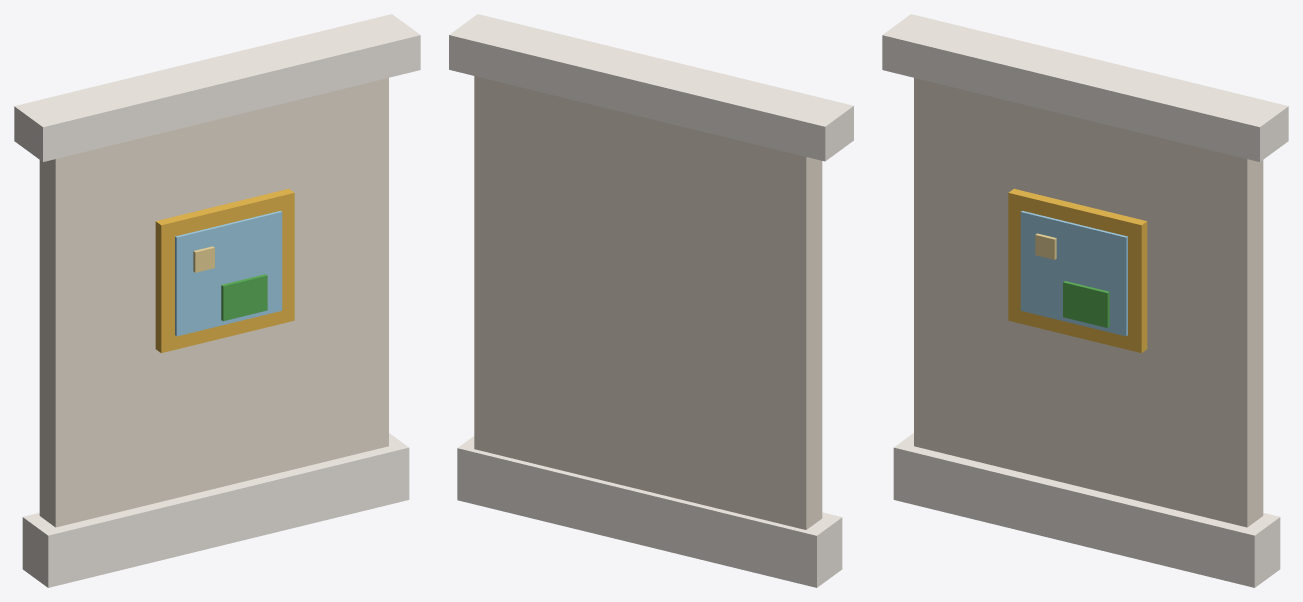
File: CatCafe_Style_CarvedStone.fbx
The picture shows the model from 3 angles, left to right: view 1: azimuth 30°, elevation 25°; view 2: azimuth 150°, elevation 25°; view 3: azimuth 330°, elevation 25°; orthographic projection.
Parts seen in each view (by area): view 1: CatCafe_Style_CarvedStone_Swatch, CatCafe_Style_CarvedStone; view 2: CatCafe_Style_CarvedStone_Swatch, CatCafe_Style_CarvedStone; view 3: CatCafe_Style_CarvedStone_Swatch, CatCafe_Style_CarvedStone.
Part boxes in pixels (box(x1,y1,x2,y2)): CatCafe_Style_CarvedStone_Swatch: box(39, 78, 388, 527); CatCafe_Style_CarvedStone: box(14, 14, 420, 587); CatCafe_Style_CarvedStone_Swatch: box(474, 76, 822, 529); CatCafe_Style_CarvedStone: box(449, 14, 853, 587); CatCafe_Style_CarvedStone_Swatch: box(914, 78, 1263, 527); CatCafe_Style_CarvedStone: box(882, 14, 1288, 587).
Size of the model in its own units: 2.72 by 3.2 by 0.36.
Materials: 1 (1 with a texture image).
